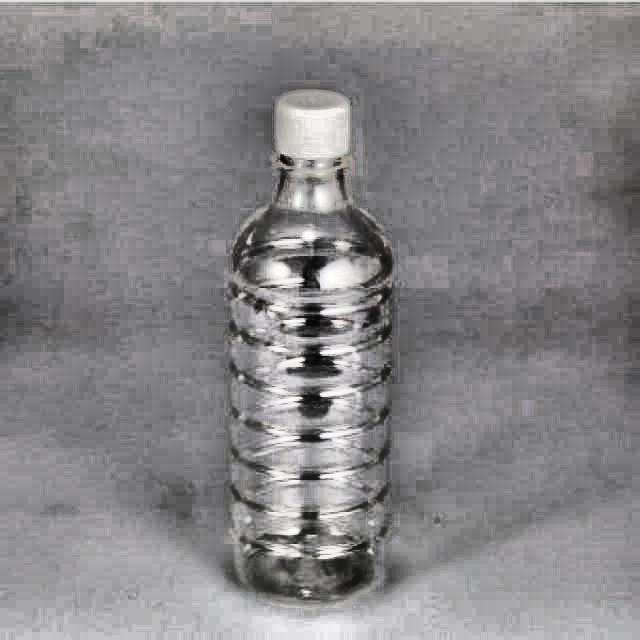plastic bottle: (229, 90, 393, 602)
